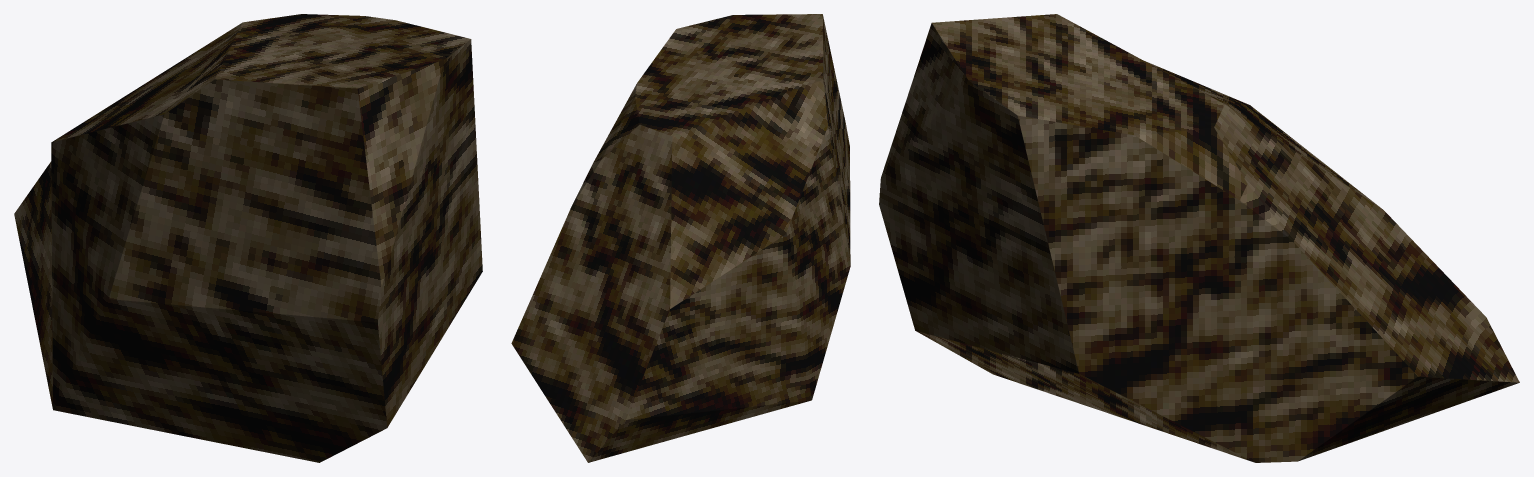
The model's file is rock.glb.
3 views of the same model, side by side, from view 1: azimuth 30°, elevation 25°; view 2: azimuth 150°, elevation 25°; view 3: azimuth 270°, elevation 25° (orthographic). The views are drawn at different scales.
Visible parts, largest first — view 1: rock; view 2: rock; view 3: rock.
Part boxes in pixels (x1,y1,x2,y2): rock: (14,14,482,462); rock: (511,14,850,462); rock: (879,14,1519,462).
Size of the model in its own units: 1.21 by 1.32 by 2.14.
Materials: 1 (1 with a texture image).
